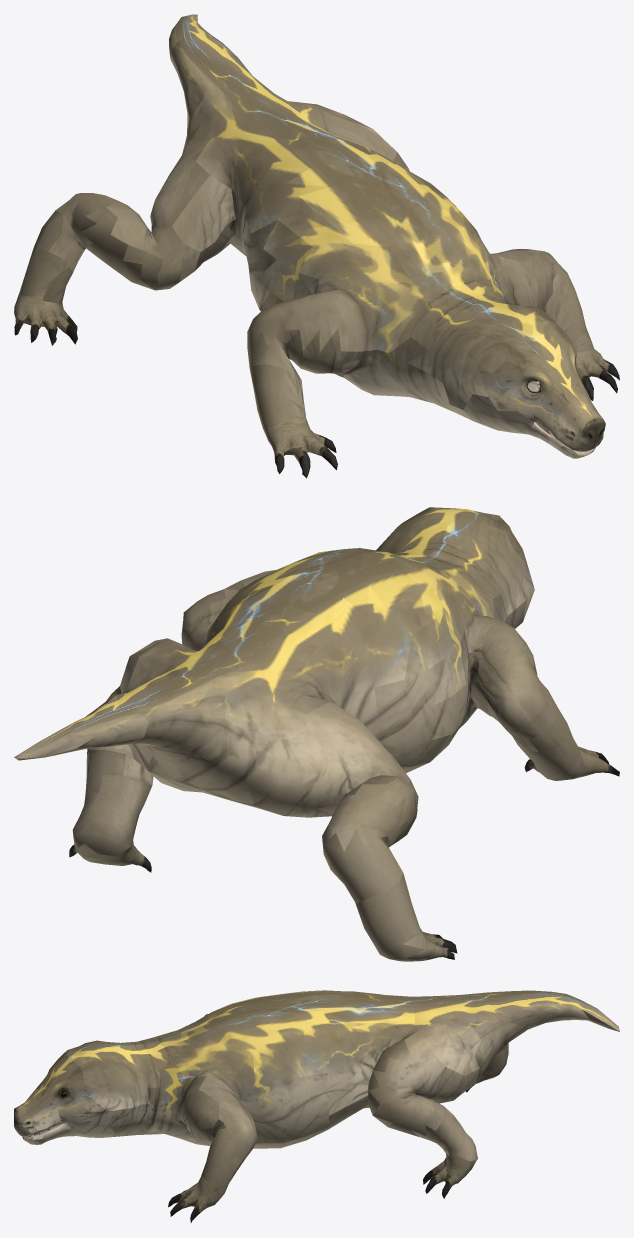
File: CRT-032.glb
The picture shows the model from 3 angles, top to bottom: view 1: azimuth 30°, elevation 25°; view 2: azimuth 150°, elevation 25°; view 3: azimuth 270°, elevation 25°; orthographic projection. The views are drawn at different scales.
Parts seen in each view (by area): view 1: mesh_node; view 2: mesh_node; view 3: mesh_node.
Boxes of the visible parts, x1,y1,x2,y2 form: mesh_node: [14, 14, 619, 478]; mesh_node: [14, 507, 619, 961]; mesh_node: [14, 990, 619, 1222].
Bounding box in the file's own units: 0.5957 × 0.293 × 1.
1 material, 1 textured.
